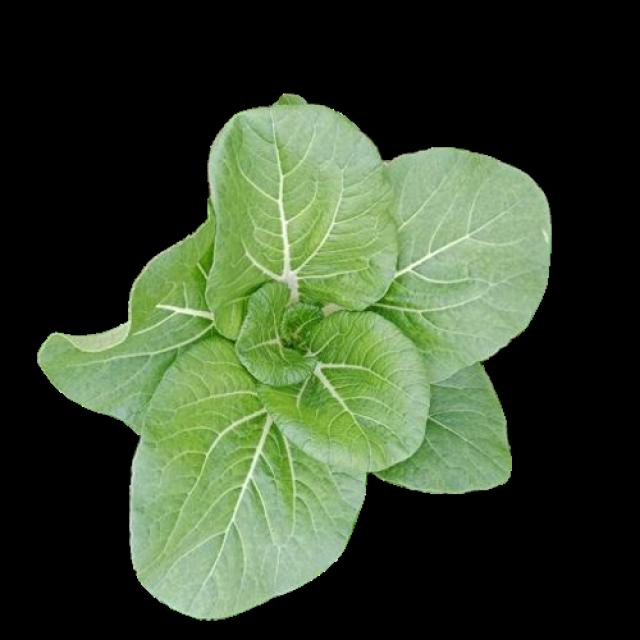healthy: (36, 93, 548, 614)
mature: (38, 96, 550, 617)
